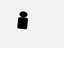human: (16, 9, 30, 31)
